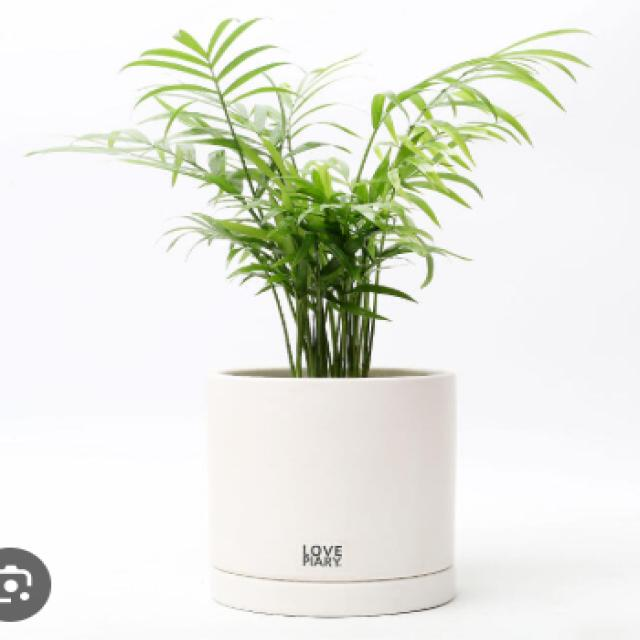Plant Pot: (191, 353, 473, 631)
